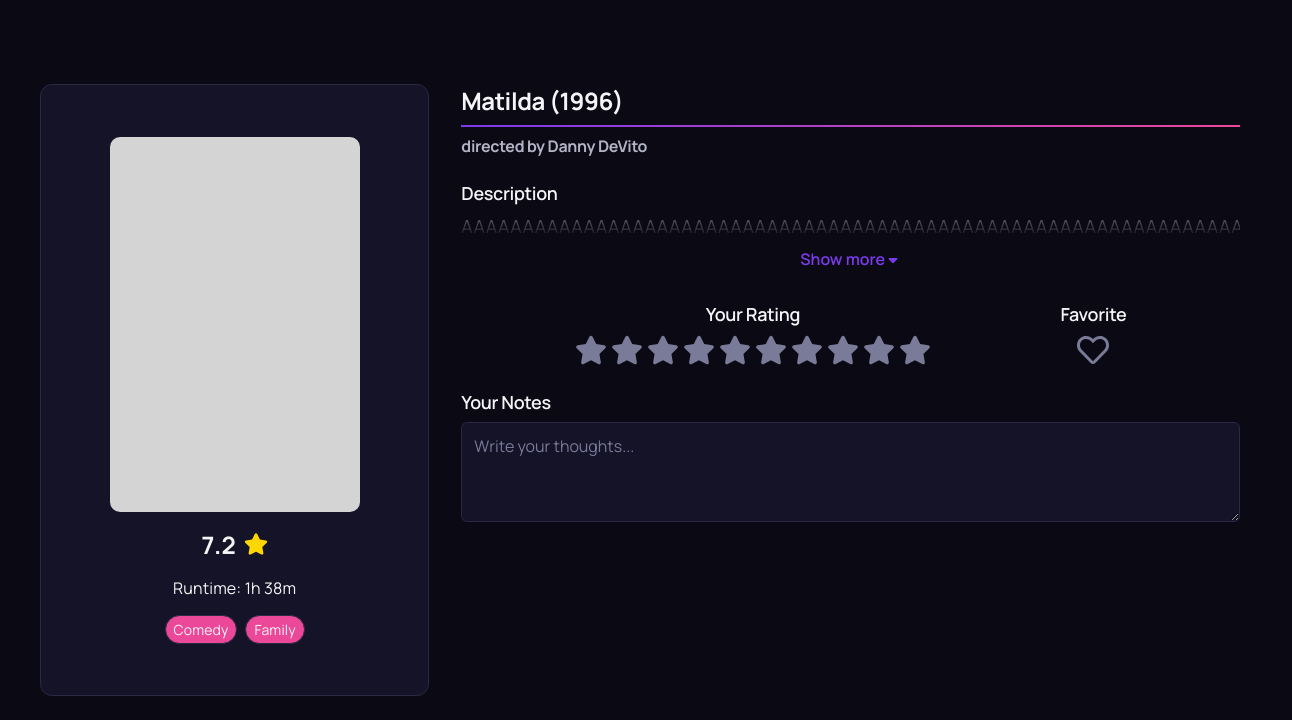
Test: MediaDetails › should expand and collapse the summary
This screenshot has width=1292, height=720.
Click the button "Show more": (851,259) [792, 240, 909, 278]
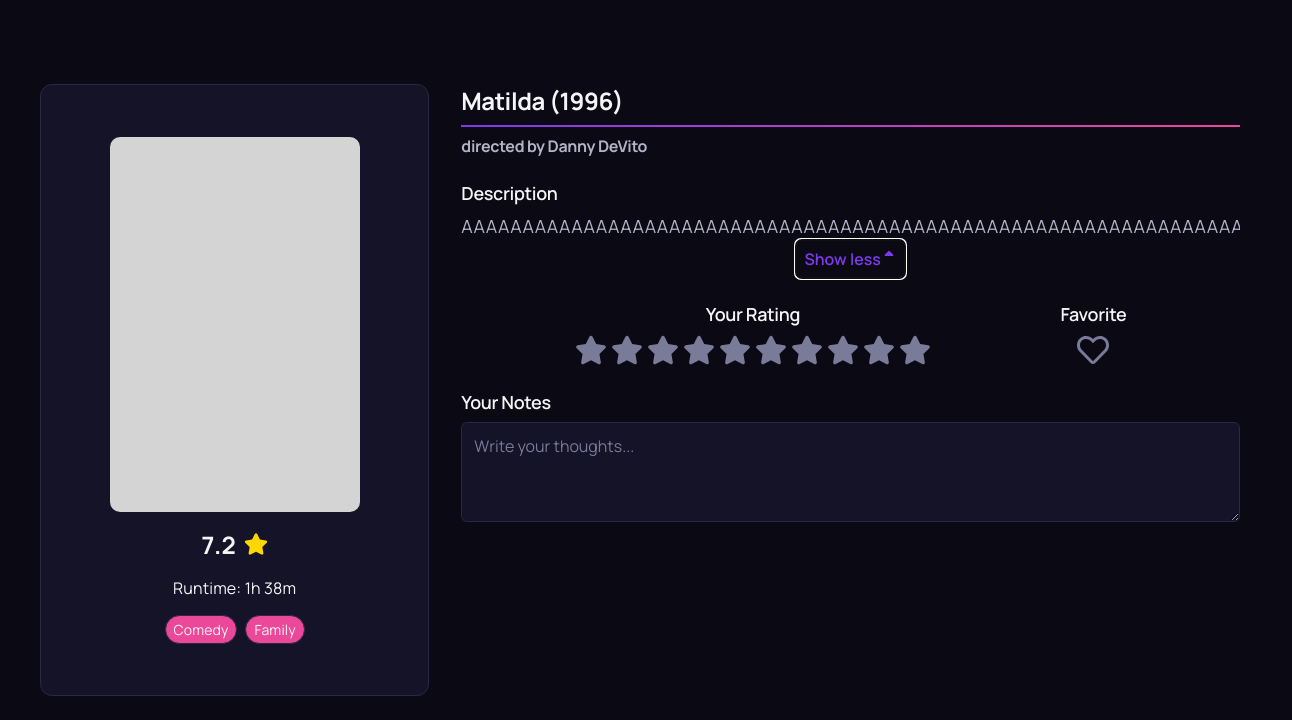
Expected: the button "Show less" is shown
Click the button "Show less": (851,259) [796, 240, 905, 278]
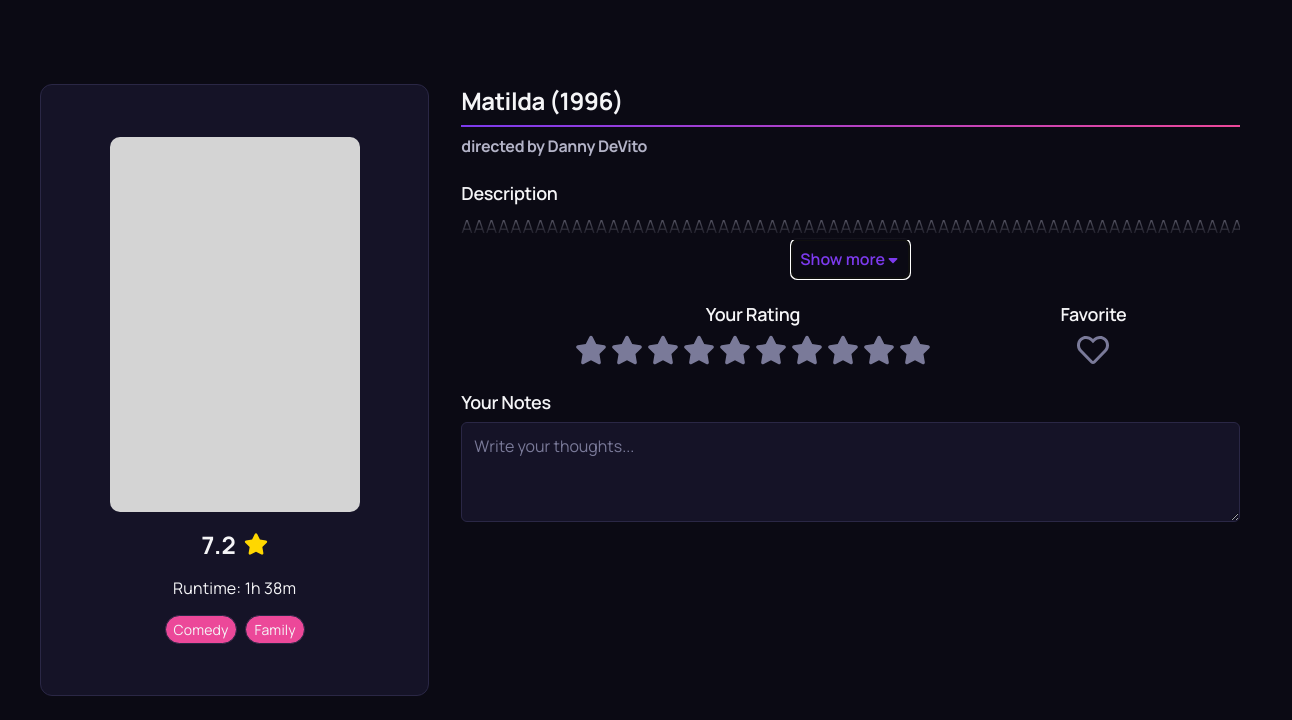
Expected: the button "Show more" is shown, [792, 240, 909, 278]
